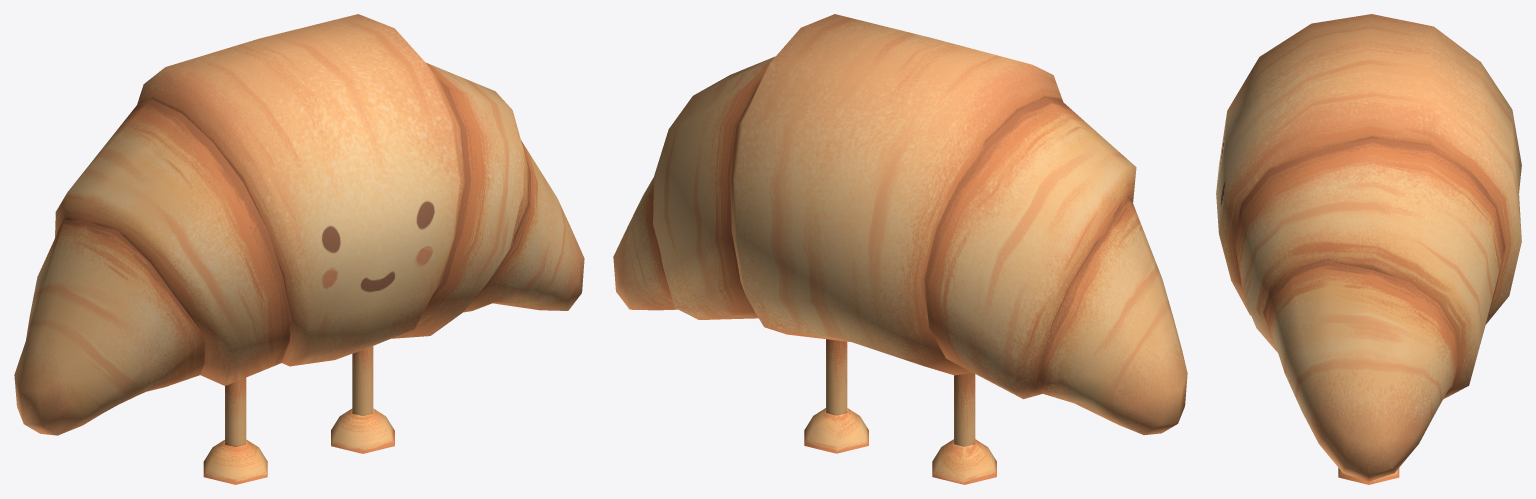
Rendered from croissant.obj.
3 renders of one model, left to right at view 1: azimuth 30°, elevation 25°; view 2: azimuth 150°, elevation 25°; view 3: azimuth 270°, elevation 25°, orthographic. The views are drawn at different scales.
Parts seen in each view (by area): view 1: Box011; view 2: Box011; view 3: Box011.
Part boxes in pixels (x1,y1,x2,y2): Box011: (14, 14, 584, 484); Box011: (613, 14, 1187, 484); Box011: (1216, 14, 1521, 484).
Bounding box in the file's own units: 4.29 × 2.96 × 2.13.
